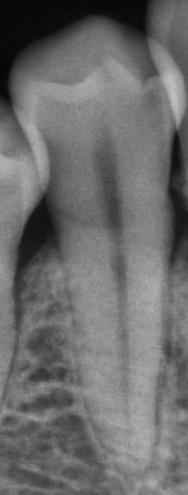tooth: (12, 16, 187, 471)
